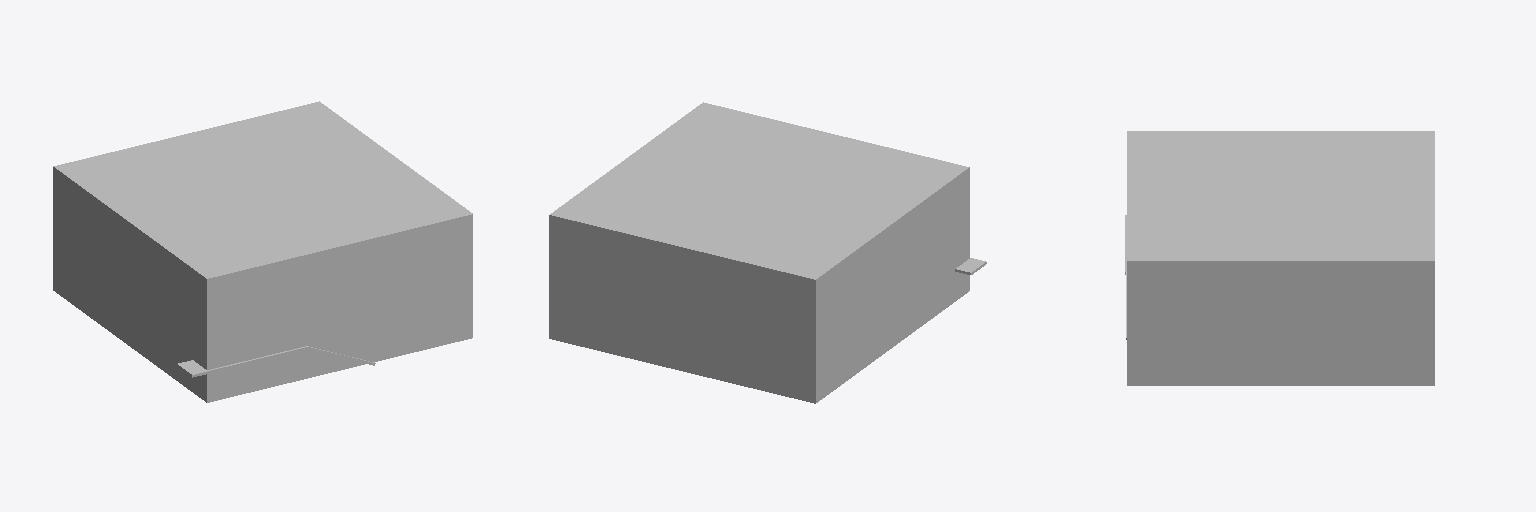
The model's file is test_map.obj.
3 renders of one model, left to right at view 1: azimuth 30°, elevation 25°; view 2: azimuth 150°, elevation 25°; view 3: azimuth 270°, elevation 25°, orthographic.
Visible parts, largest first — view 1: Cube, Cube.003; view 2: Cube; view 3: Cube.
Boxes of the visible parts, box(x1,y1,x2,y2) form: Cube: box(53, 101, 472, 402); Cube.003: box(177, 346, 308, 377); Cube: box(549, 102, 969, 403); Cube: box(1127, 131, 1434, 385).
Size of the model in its own units: 21.21 by 9.1 by 20.16.